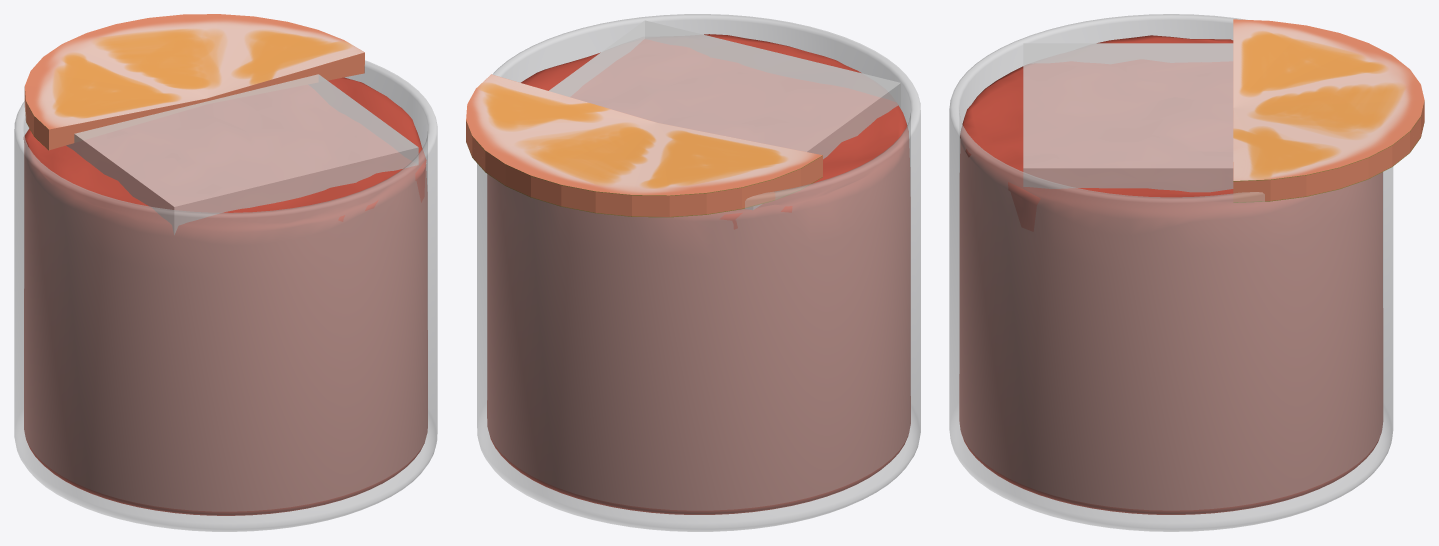
The model's file is negroni.glb.
3 renders of one model, left to right at view 1: azimuth 30°, elevation 25°; view 2: azimuth 150°, elevation 25°; view 3: azimuth 270°, elevation 25°, orthographic. The views are drawn at different scales.
Visible parts, largest first — view 1: OF.002; view 2: OF.002; view 3: OF.002.
Boxes of the visible parts, x1,y1,x2,y2 form: OF.002: [14, 14, 437, 531]; OF.002: [466, 14, 920, 531]; OF.002: [949, 14, 1424, 531].
Size of what is drawn, in the model's own units: 0.1219 by 0.1053 by 0.1305.
Materials: 4 (1 with a texture image).
